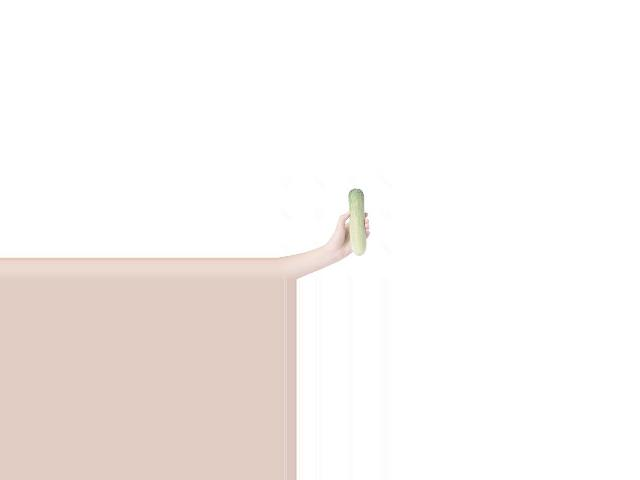cucumber: (346, 188, 365, 256)
